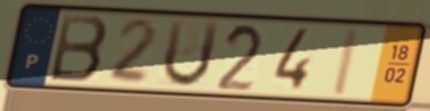2: (212, 22, 269, 92), (106, 16, 160, 88)
4: (271, 27, 313, 93)
B: (46, 12, 111, 85)
I: (327, 25, 364, 98)
U: (159, 18, 223, 91)
